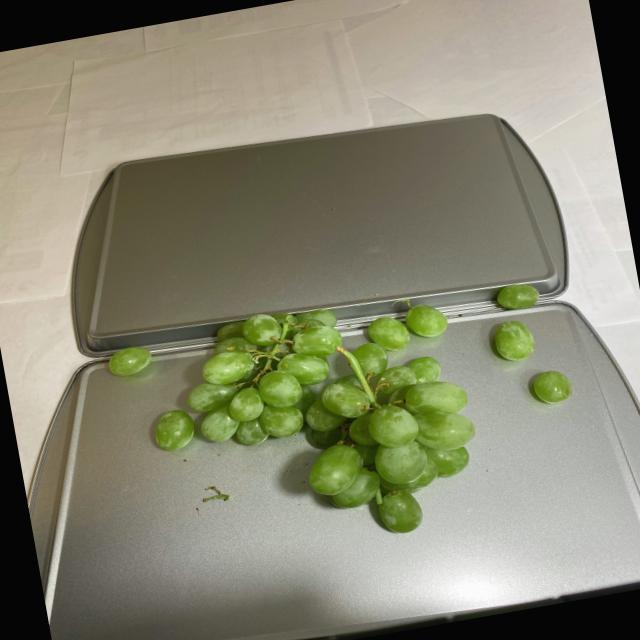grapes: (94, 260, 594, 581)
